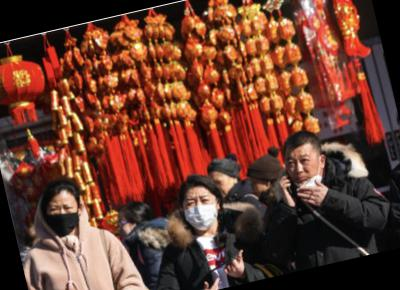mask_weared_incorrect: (283, 146, 325, 194)
with_mask: (41, 194, 83, 238), (183, 191, 223, 233)
without_mask: (249, 175, 271, 199), (117, 216, 137, 240)
